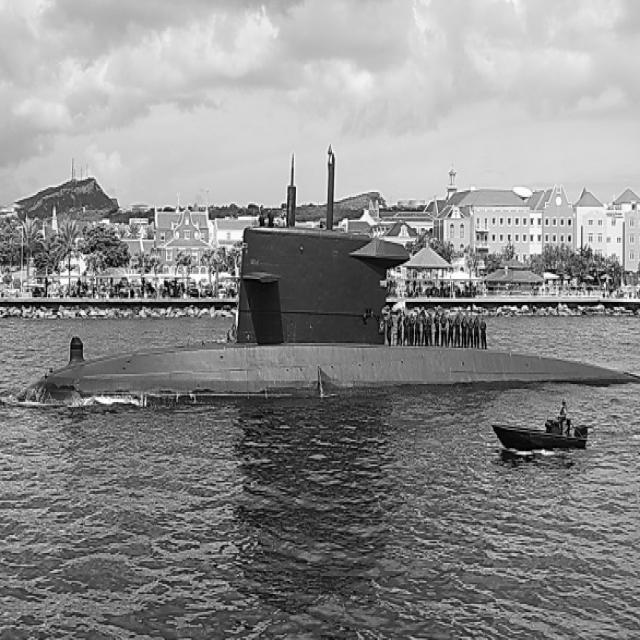submarine: (15, 144, 640, 405)
